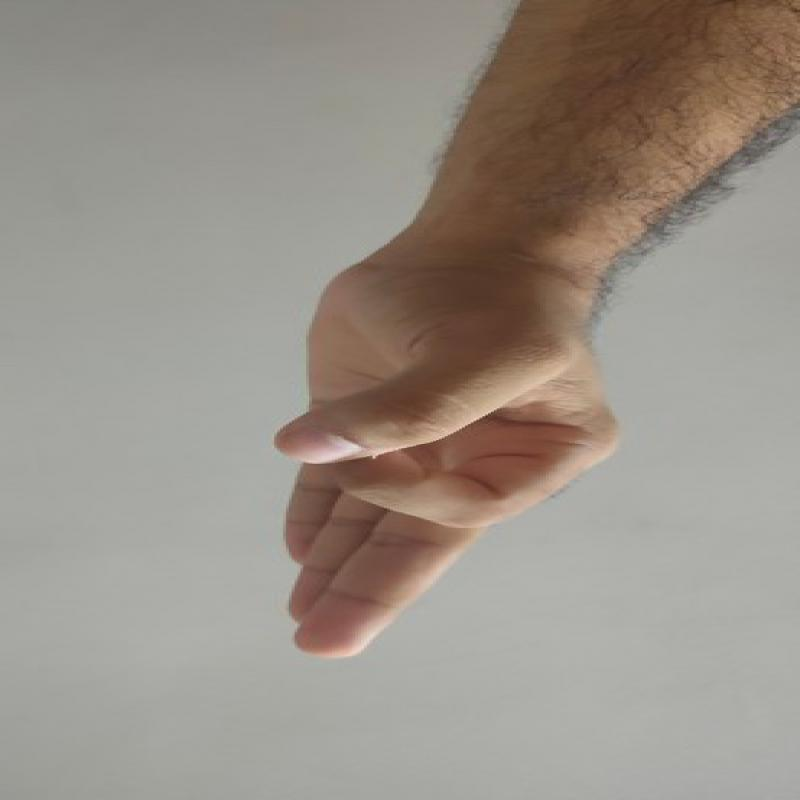Mudraakhyam: (165, 248, 638, 672)
